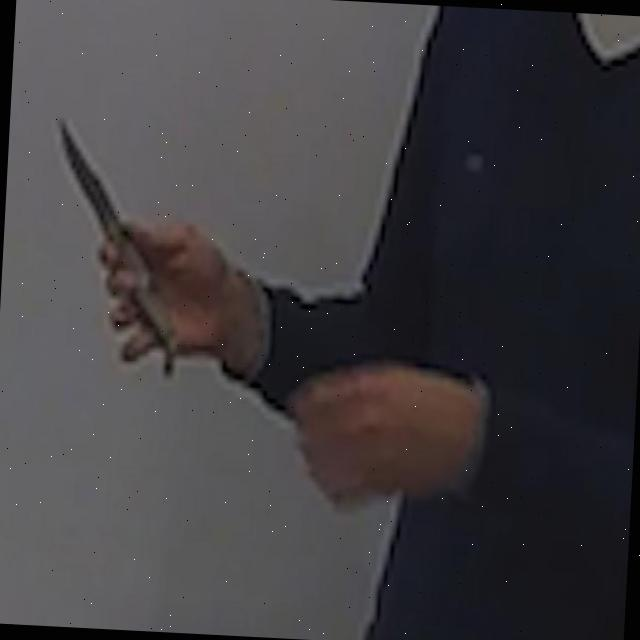suspicion: (24, 108, 610, 531), (36, 111, 191, 379)
